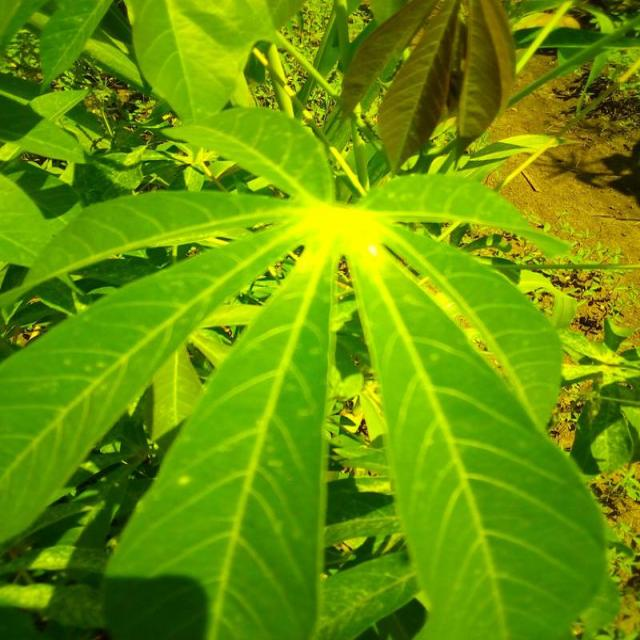cassava leaf: (1, 1, 633, 638), (346, 224, 621, 638), (100, 244, 336, 638)
